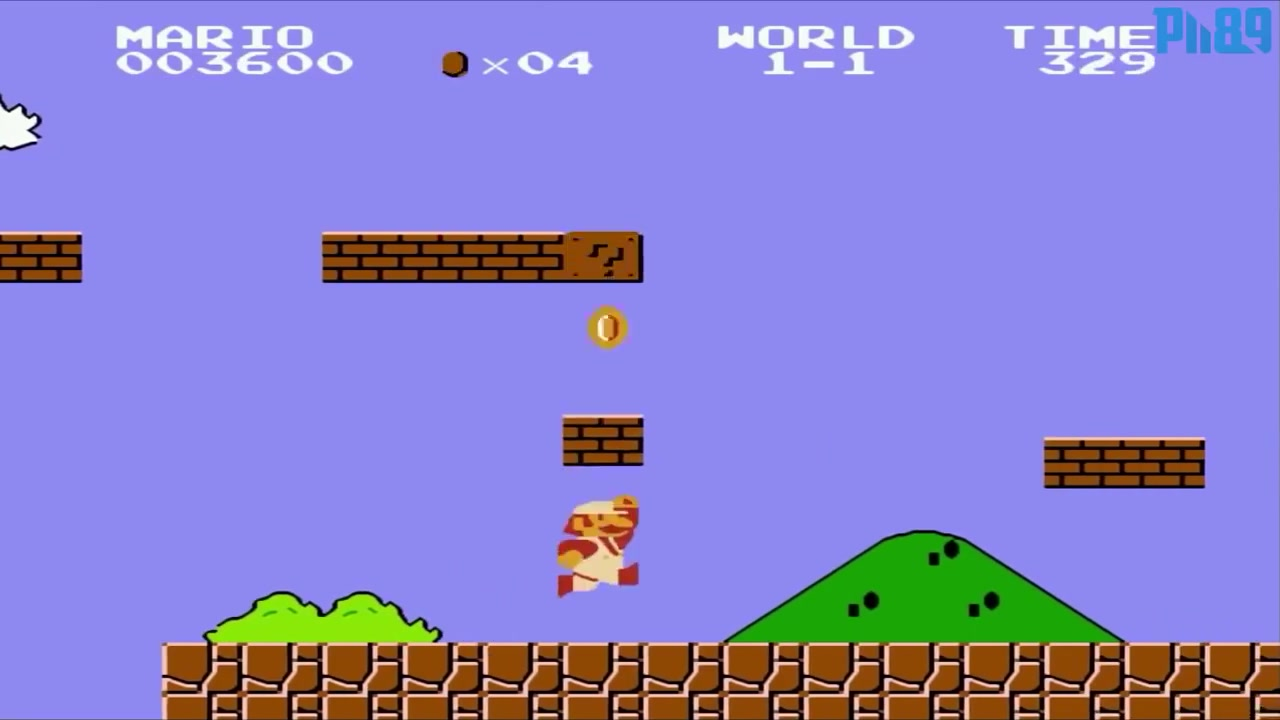mario: (554, 485, 646, 599)
